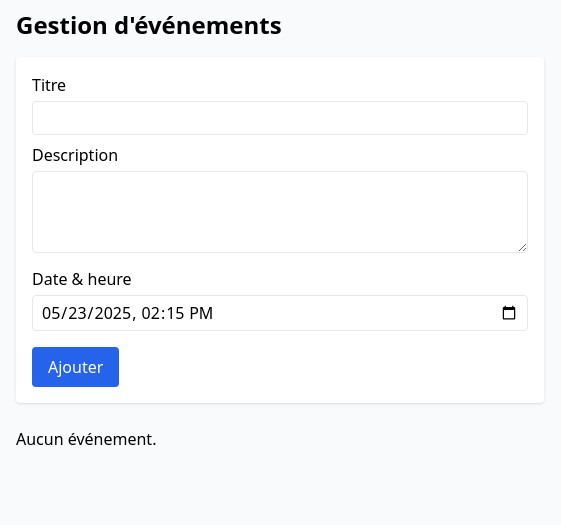
Test case: flux complet CRUD
In the field labelled "Titre": (280, 118) [32,101,528,135], type "Test"
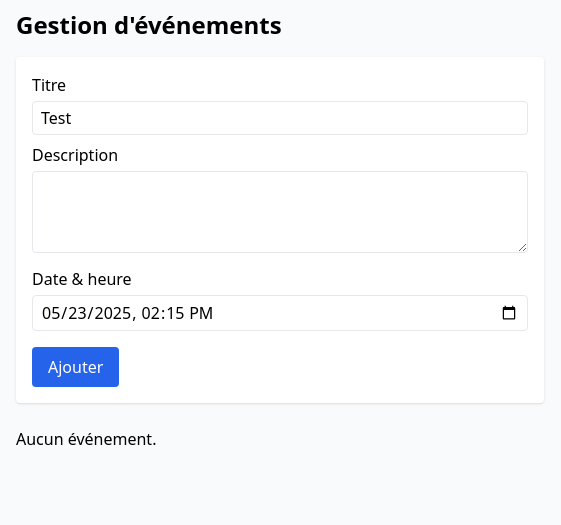
Click the button "Ajouter": (76, 367) [32,347,119,387]
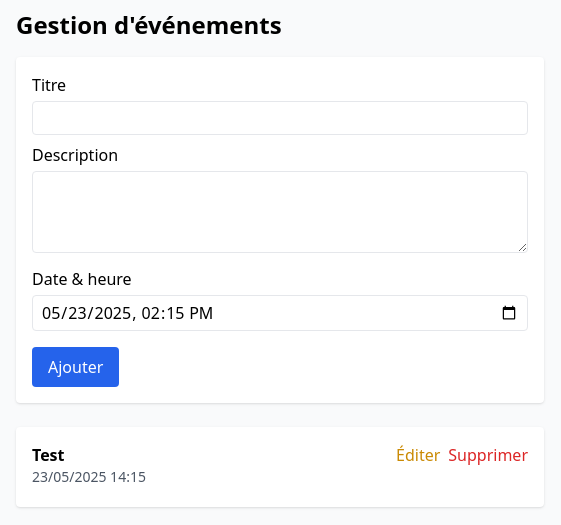
Check: the heading "Test" is shown, box [32,444,64,466]
Note:  Édition
Click the button "Éditer": (418, 455) [396,443,440,467]
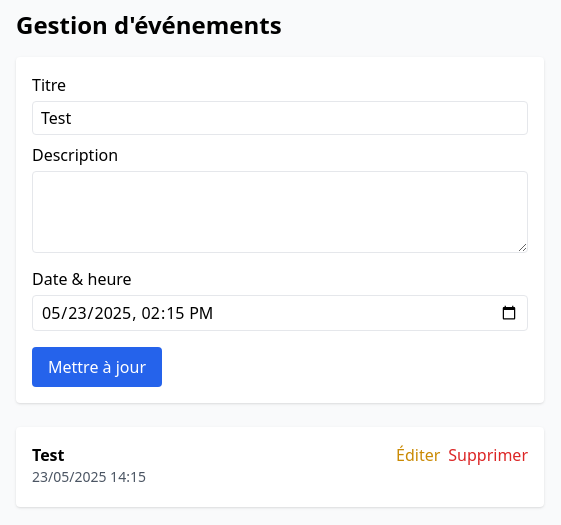
Replace the text in the field labelled "Titre" with "Test2": (280, 118) [32,101,528,135]
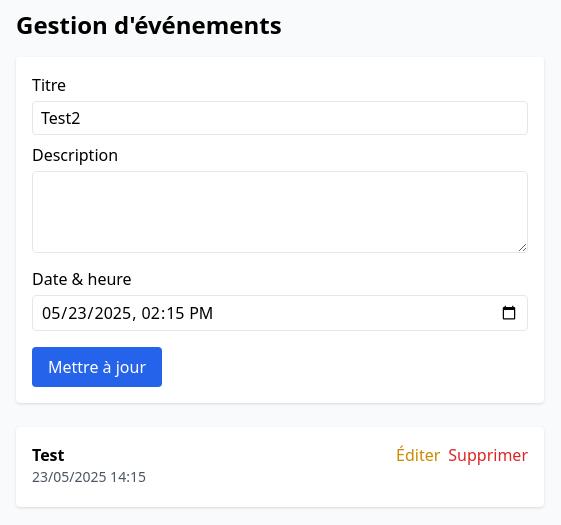
Click the button "Mettre à jour": (97, 367) [32,347,162,387]
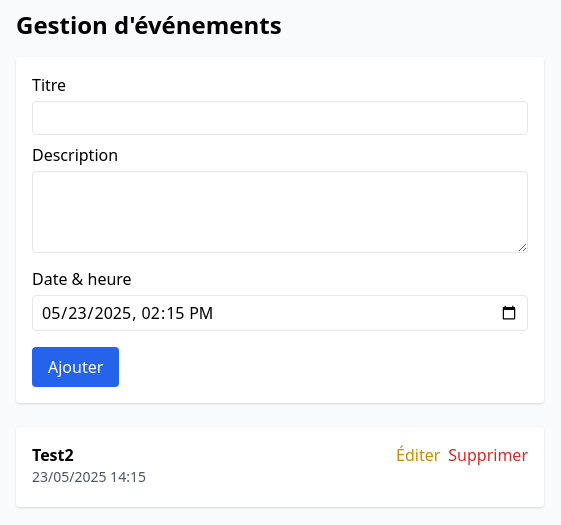
Check: the heading "Test2" is shown, box [32,444,74,466]
Click the button "Supprimer": (488, 455) [448,443,528,467]
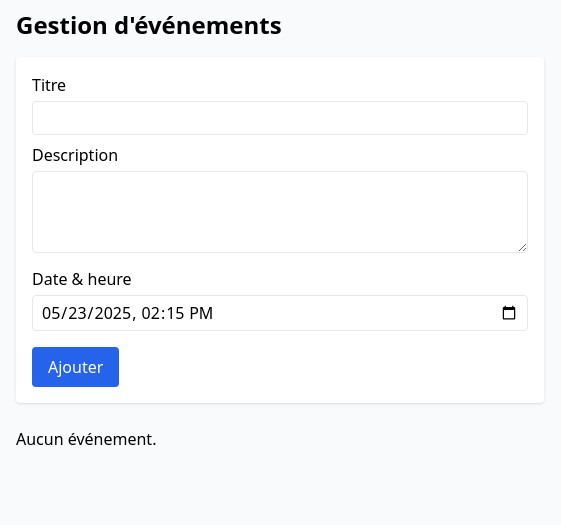
Check: the heading "Test2" is gone
